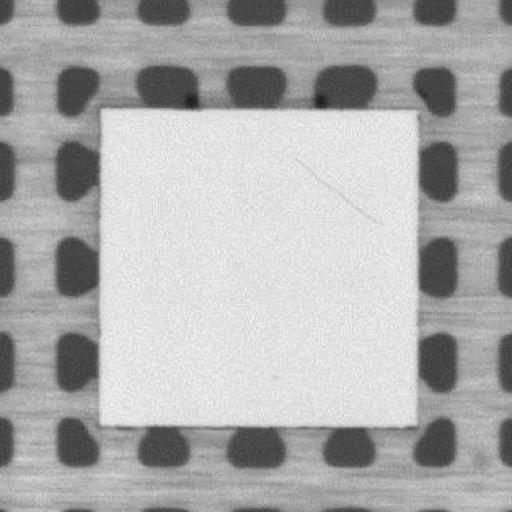DIE_CRACK: (294, 158, 385, 224)
